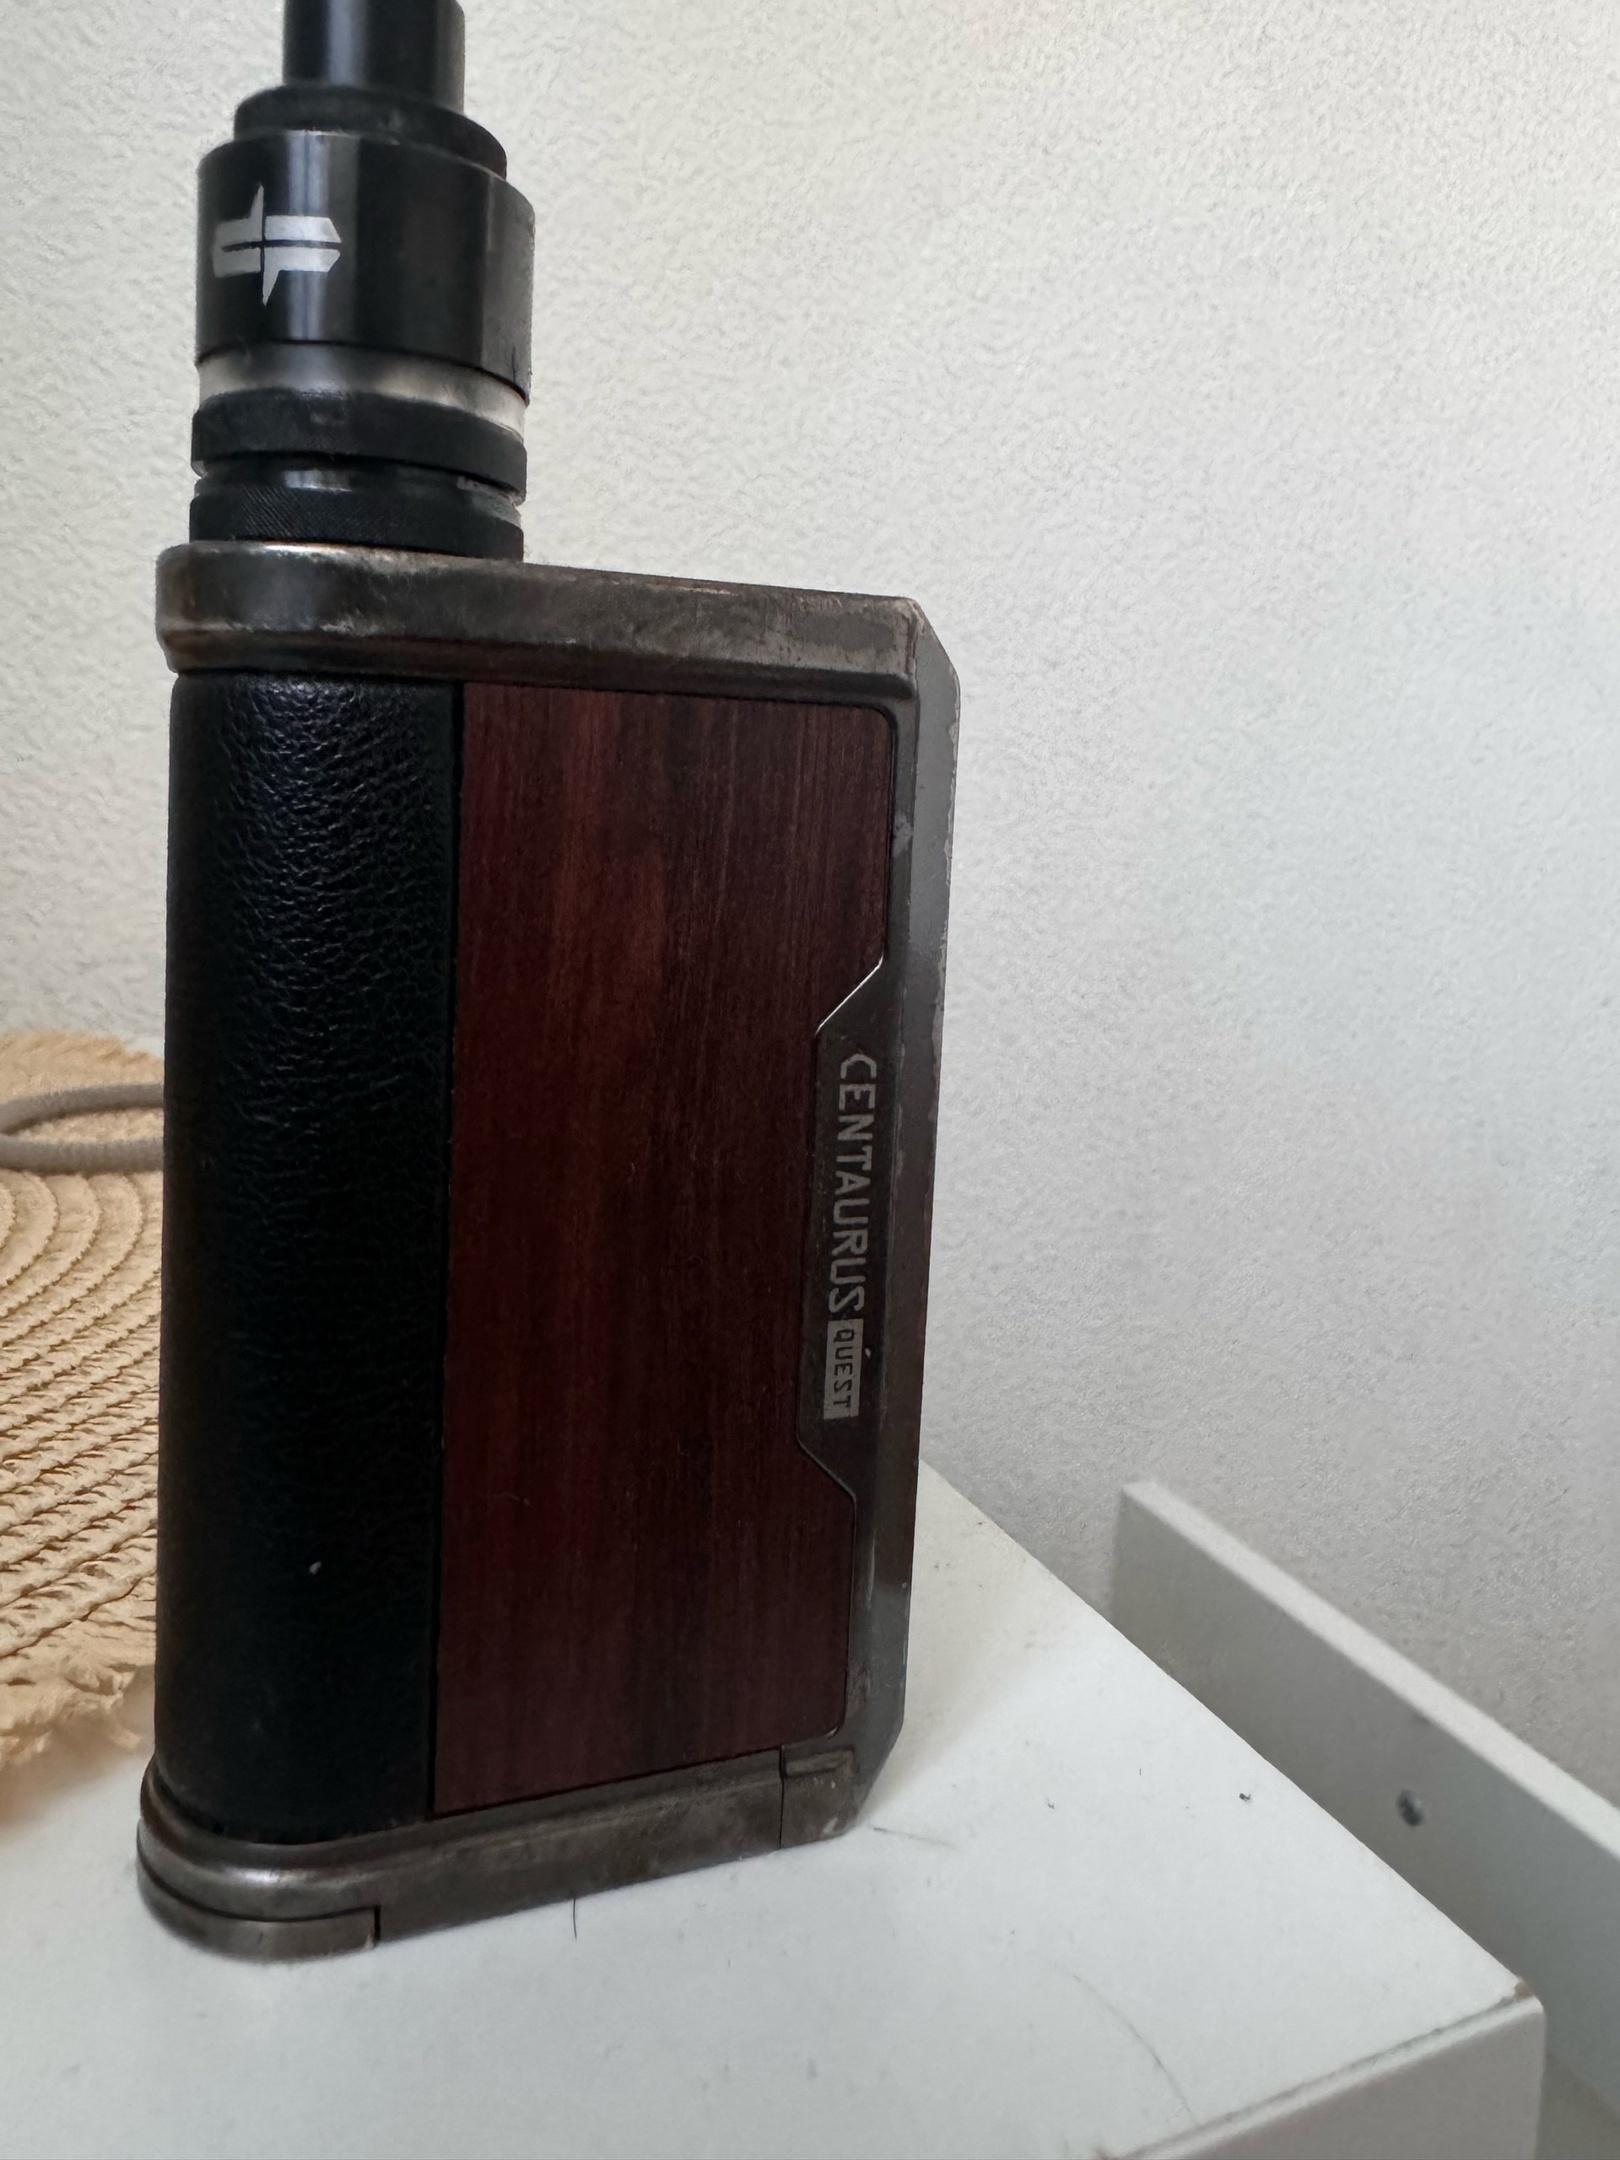Vape: (138, 0, 955, 1959)
